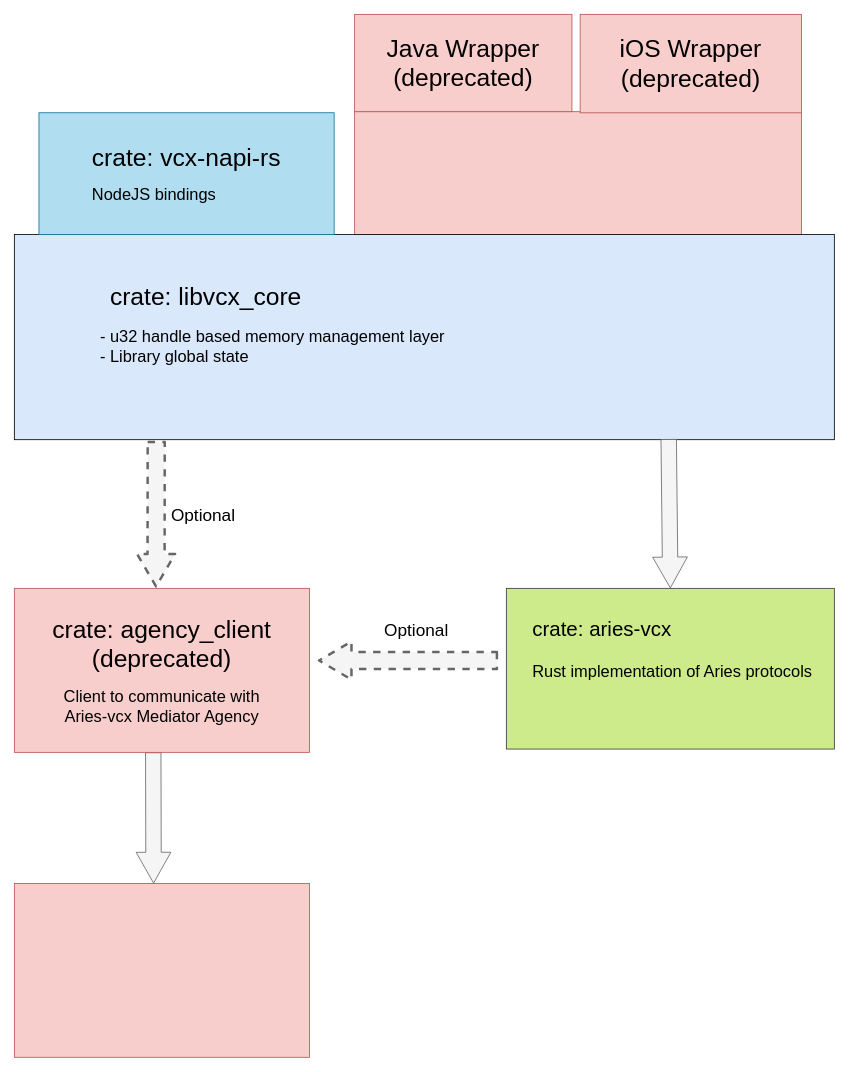
Image size: 865x1072. Some labels were removed from this diagram. The shapes that lost their labels are listed below. From the top down, each one's centre as x and y in pixels, then its label:
the point at 578,173: crate: libvcx (deprecated) - Task Execution Runtime - C FFI Api
the point at 162,970: vcxagency-node (deprecated) - Web service to mediate aries messages
